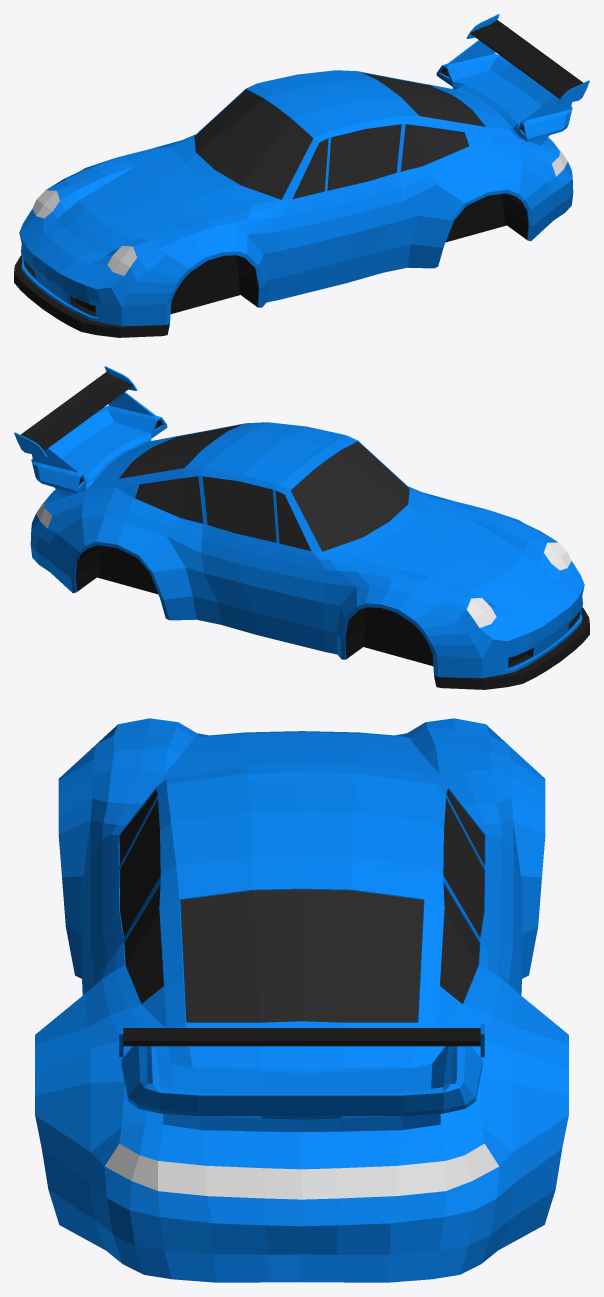
Rendered from car5.fbx.
The picture shows the model from 3 angles, top to bottom: view 1: azimuth 30°, elevation 25°; view 2: azimuth 150°, elevation 25°; view 3: azimuth 270°, elevation 25°; orthographic projection. The views are drawn at different scales.
Parts seen in each view (by area): view 1: Plane.014; view 2: Plane.014; view 3: Plane.014.
Boxes of the visible parts, box(x1,y1,x2,y2) form: Plane.014: box(14, 14, 589, 337); Plane.014: box(14, 366, 589, 689); Plane.014: box(35, 718, 568, 1282).
Size of the model in its own units: 510 by 140 by 234.
